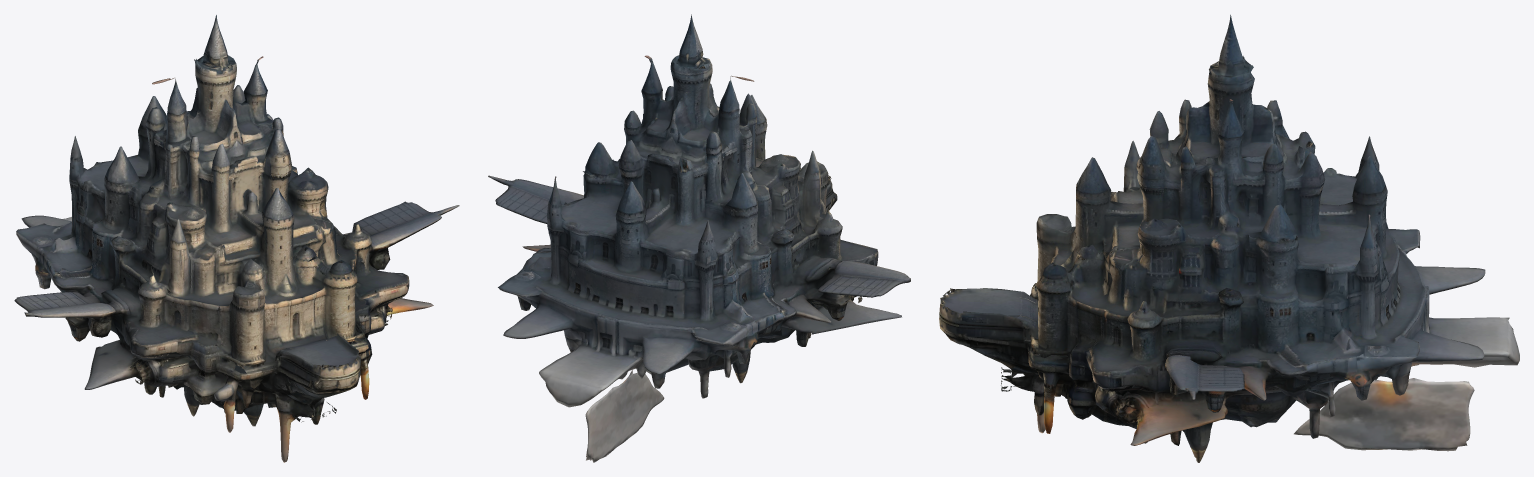
Rendered from sky_fortress.glb.
3 renders of one model, left to right at view 1: azimuth 30°, elevation 25°; view 2: azimuth 150°, elevation 25°; view 3: azimuth 270°, elevation 25°, orthographic. The views are drawn at different scales.
Visible parts, largest first — view 1: tripo_node_9192b8b5-e28c-42fb-86f6-36ec36d2fe77; view 2: tripo_node_9192b8b5-e28c-42fb-86f6-36ec36d2fe77; view 3: tripo_node_9192b8b5-e28c-42fb-86f6-36ec36d2fe77.
Boxes of the visible parts, box(x1,y1,x2,y2) form: tripo_node_9192b8b5-e28c-42fb-86f6-36ec36d2fe77: box(14, 15, 459, 462); tripo_node_9192b8b5-e28c-42fb-86f6-36ec36d2fe77: box(488, 14, 910, 462); tripo_node_9192b8b5-e28c-42fb-86f6-36ec36d2fe77: box(939, 14, 1519, 462).
Size of the model in its own units: 0.9191 by 0.7864 by 0.9504.
Materials: 1 (1 with a texture image).
